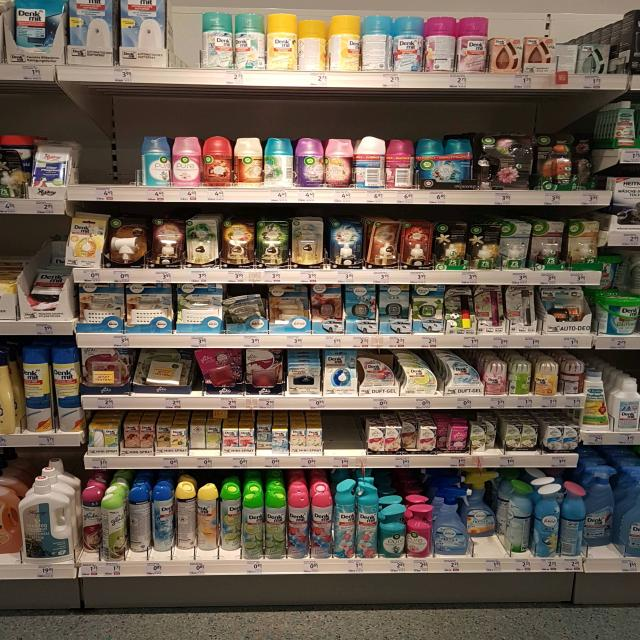void: (80, 98, 108, 200), (112, 98, 138, 201), (170, 2, 202, 85), (615, 20, 640, 90), (328, 411, 345, 467), (349, 412, 366, 466)
